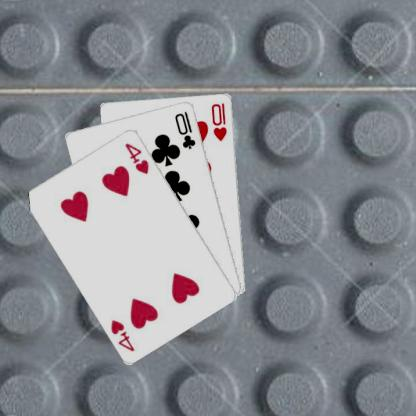10C: (174, 108, 199, 151)
10H: (211, 100, 230, 142)
4H: (124, 140, 152, 176), (110, 316, 138, 352)
